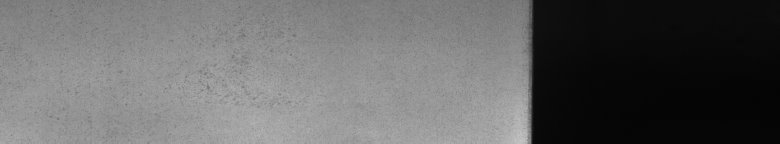ib: (199, 28, 296, 92)
